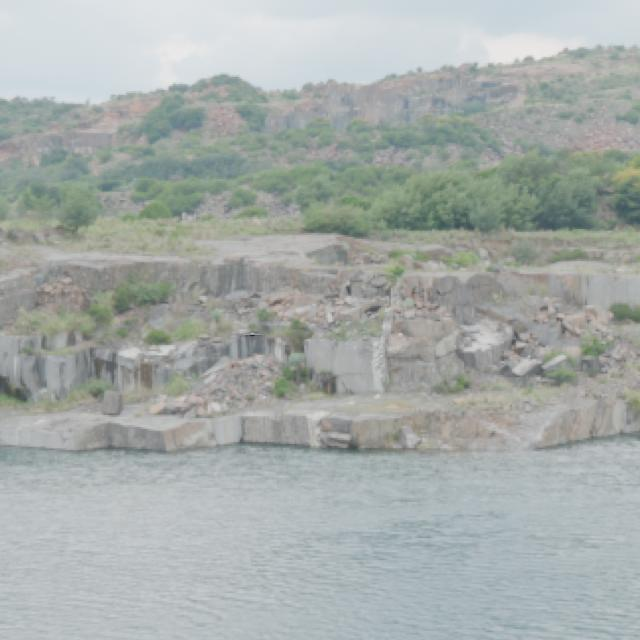Airaplan: (243, 333, 263, 337)
